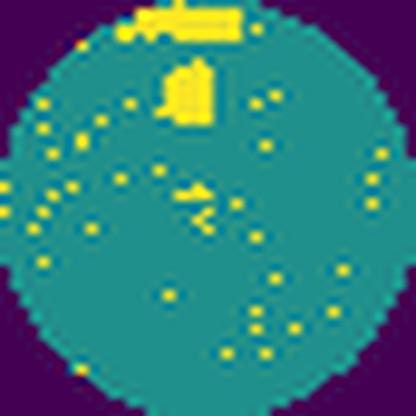Loc: (117, 6, 245, 43), (152, 55, 215, 127)
